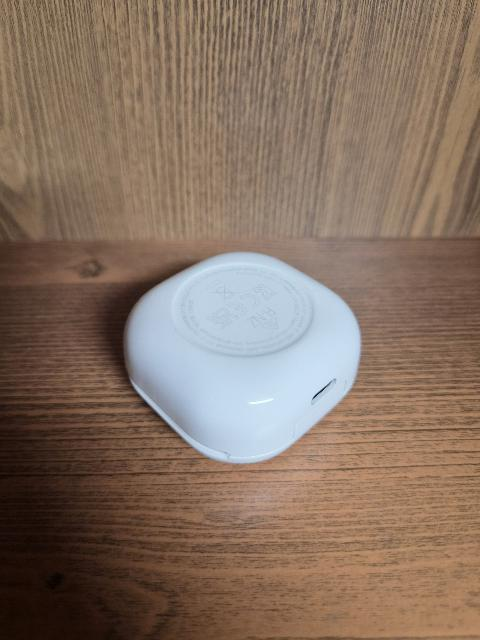earphone_case: (123, 251, 362, 463)
